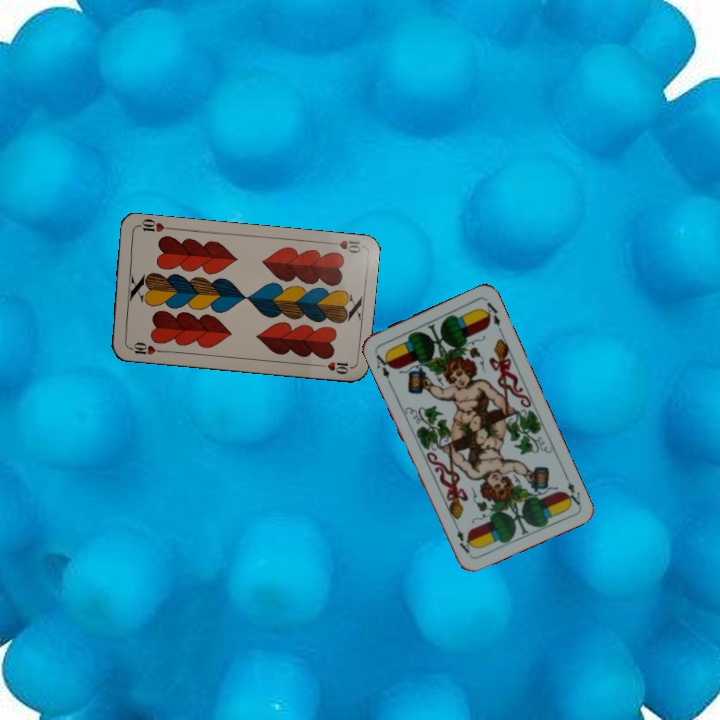EA: (371, 348, 395, 386), (560, 470, 583, 509)
H10: (323, 236, 364, 256), (124, 338, 165, 357)
